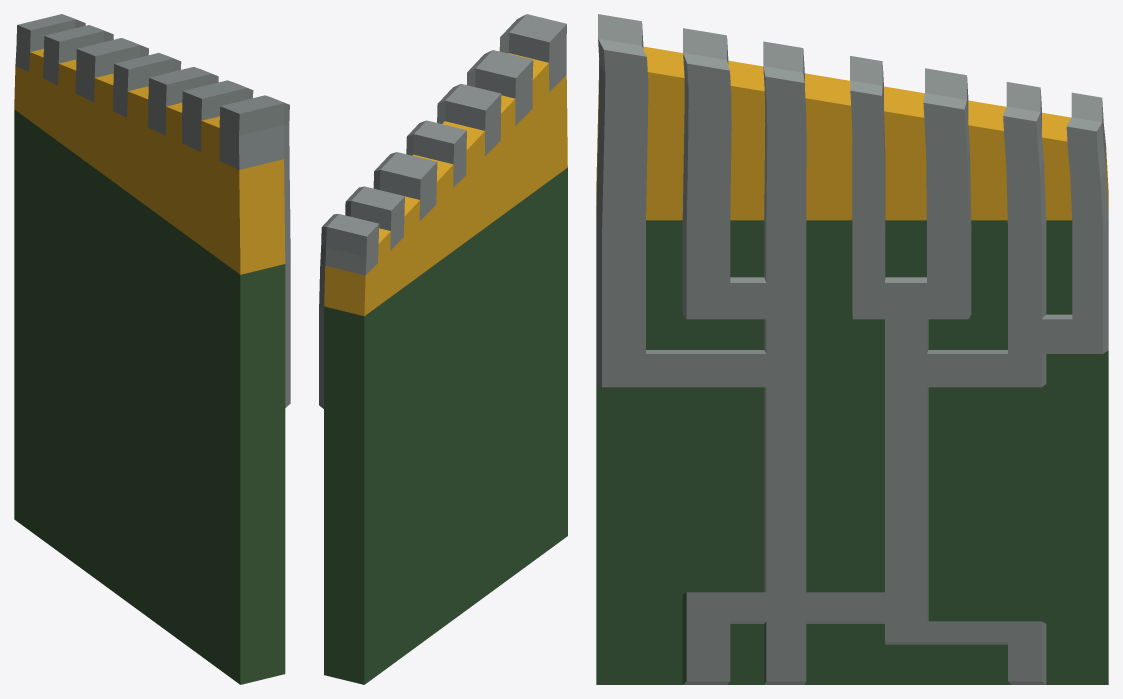
The model's file is Recolectables.fbx.
The picture shows the model from 3 angles, left to right: view 1: azimuth 30°, elevation 25°; view 2: azimuth 150°, elevation 25°; view 3: azimuth 270°, elevation 25°; orthographic projection. The views are drawn at different scales.
Parts seen in each view (by area): view 1: Tarjeta; view 2: Tarjeta; view 3: Tarjeta.
Part boxes in pixels (bbox=[...]): Tarjeta: bbox=[14, 14, 290, 684]; Tarjeta: bbox=[319, 14, 567, 684]; Tarjeta: bbox=[596, 14, 1108, 684].
Bounding box in the file's own units: 29.83 × 307 × 221.
